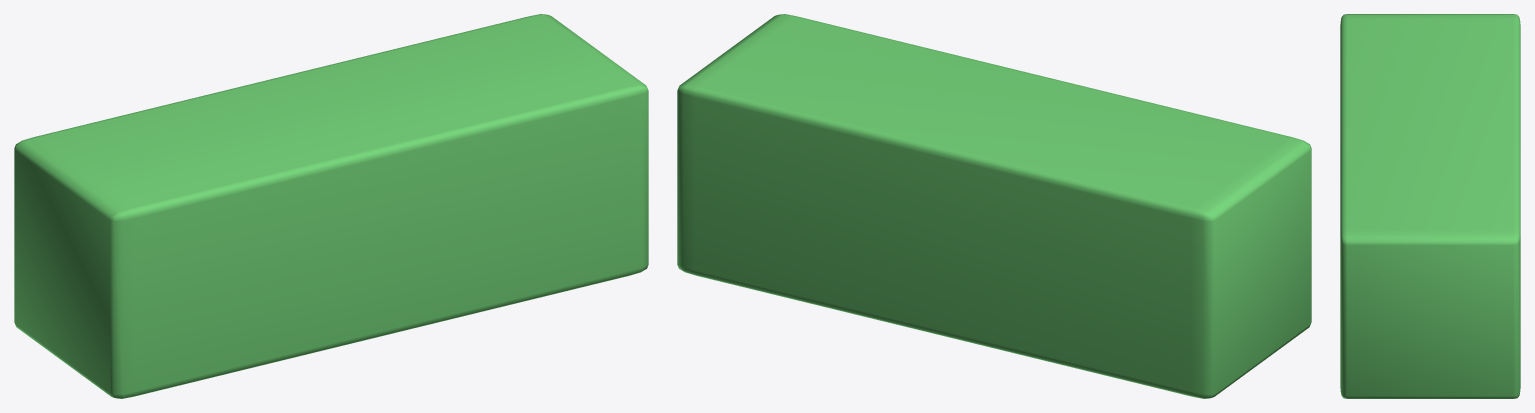
The model's file is block.fbx.
3 views of the same model, side by side, from view 1: azimuth 30°, elevation 25°; view 2: azimuth 150°, elevation 25°; view 3: azimuth 270°, elevation 25° (orthographic). The views are drawn at different scales.
Visible parts, largest first — view 1: block; view 2: block; view 3: block.
Part boxes in pixels (bbox=[...]): block: bbox=[14, 14, 648, 398]; block: bbox=[677, 14, 1311, 398]; block: bbox=[1340, 14, 1520, 398].
Bounding box in the file's own units: 191 × 63.76 × 63.76.
